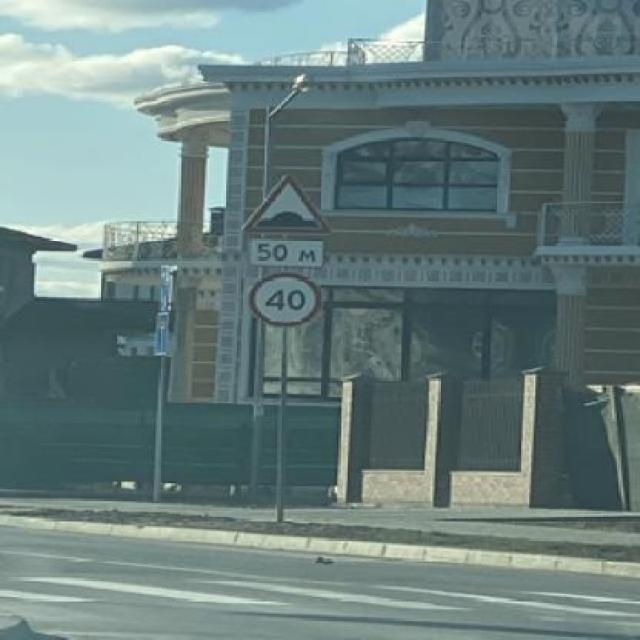forb_speed_over_40: (253, 271, 322, 326)
